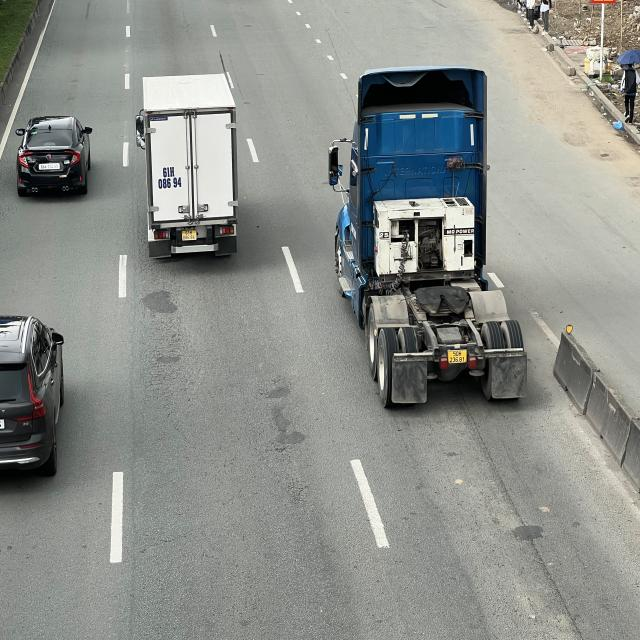car: (0, 315, 64, 477), (14, 114, 92, 195)
container: (326, 68, 530, 405)
truck: (135, 72, 239, 258)
